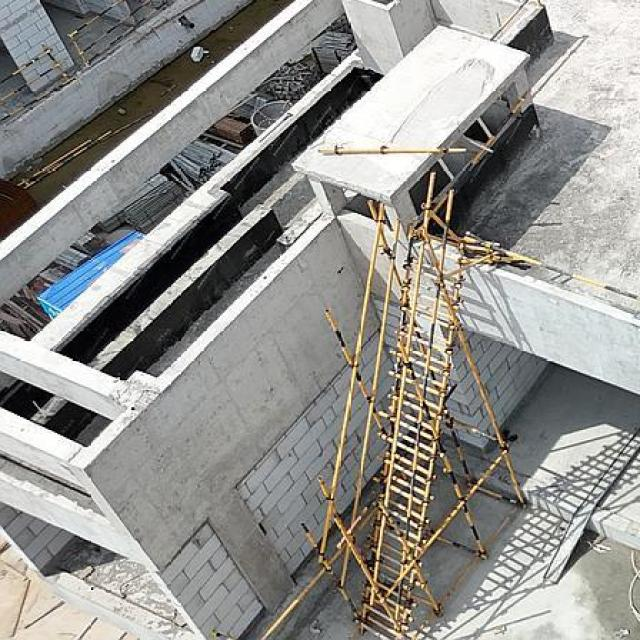Guardrail: (411, 88, 530, 228), (461, 235, 640, 302), (66, 0, 166, 67), (0, 46, 77, 123), (489, 0, 530, 43), (535, 0, 541, 6)
